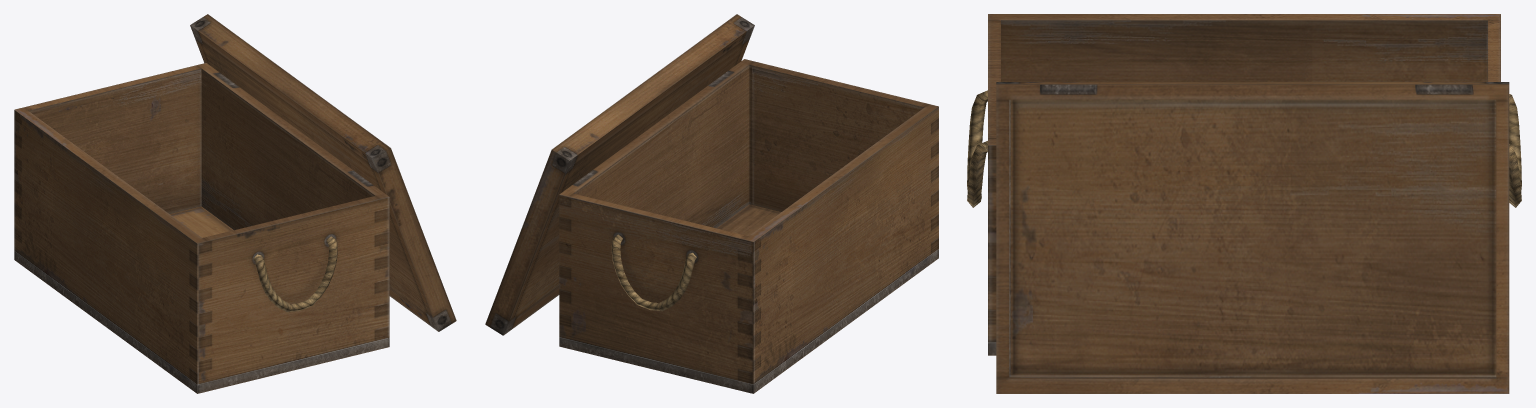
File: ms_carte_wooden_open.fbx
3 renders of one model, left to right at view 1: azimuth 30°, elevation 25°; view 2: azimuth 150°, elevation 25°; view 3: azimuth 270°, elevation 25°, orthographic. The views are drawn at different scales.
Visible parts, largest first — view 1: ms_carte_wooden_open; view 2: ms_carte_wooden_open; view 3: ms_carte_wooden_open.
Part boxes in pixels (x1,y1,x2,y2): ms_carte_wooden_open: (14, 14, 456, 393); ms_carte_wooden_open: (485, 14, 938, 393); ms_carte_wooden_open: (967, 14, 1521, 393).
Bounding box in the file's own units: 37.94 × 27.06 × 49.63.
